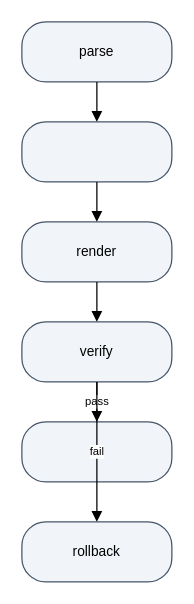
Image size: 194x604. Some labels were removed from this diagram. Here are the shapes that lost their labels. From the top down, the box of each, then its label:
(21, 121, 172, 182): resolve
(21, 421, 172, 482): publish
